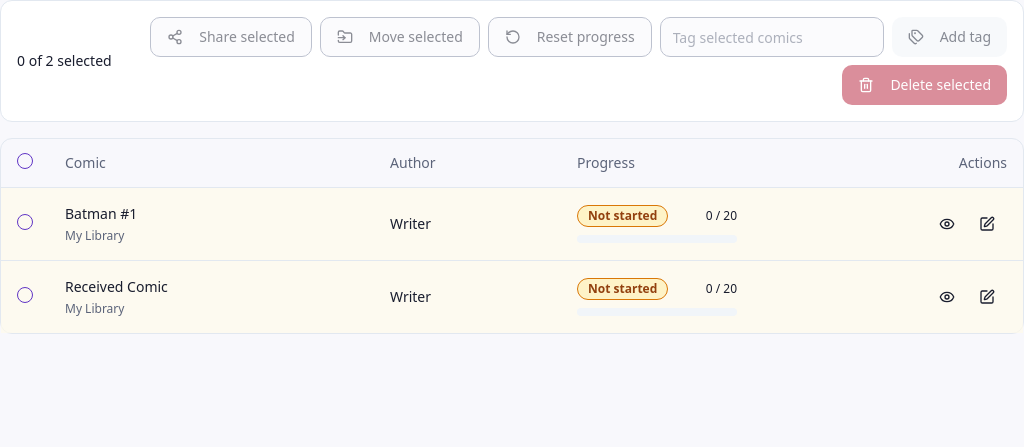
Test: ComicTableView sharing › blocks a selection containing a comic that was shared with you
Click the checkbox named "Select Batman #1" at [25, 222], box [17,214,33,230]
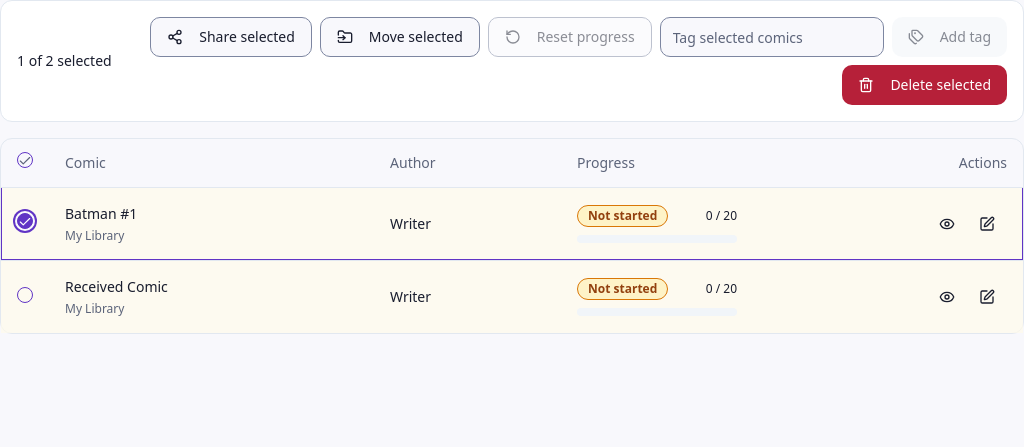
Click the checkbox named "Select Received Comic" at [25, 294], box [17,286,33,302]
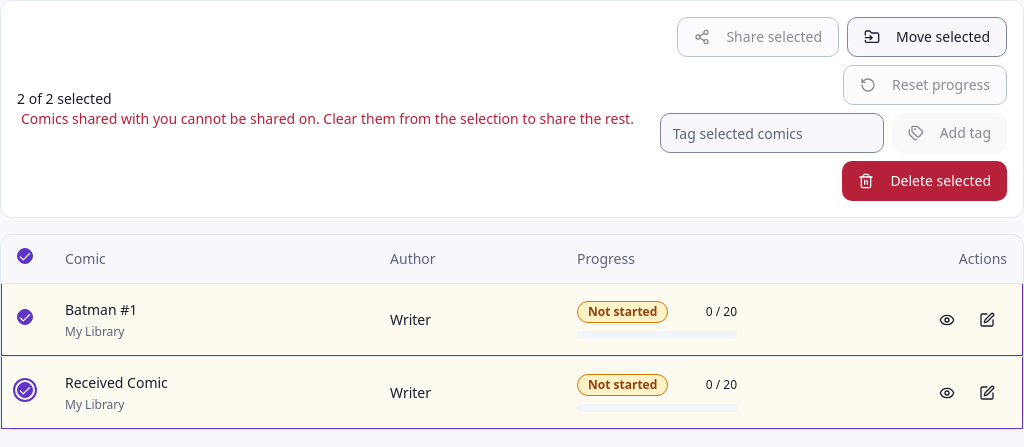
Expected: the button "Share selected" is disabled, [677,17,839,57]
Expected: the text "cannot be shared on" is shown, [21,109,634,128]
